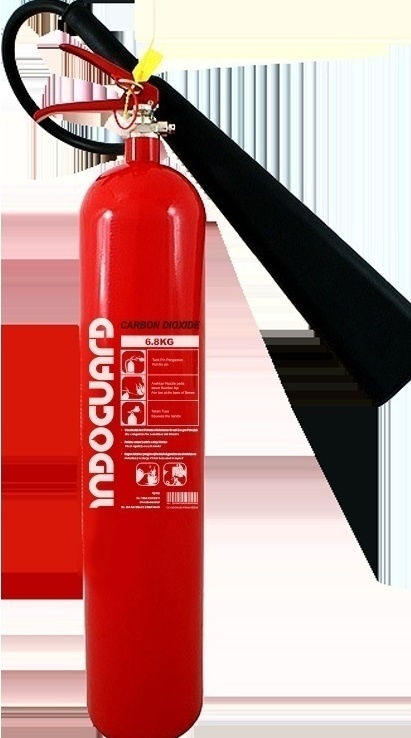fire_extinguisher: (1, 1, 206, 736)
